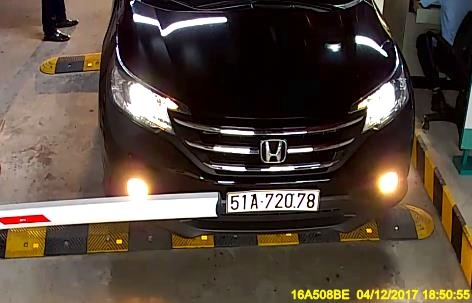plate: (225, 187, 317, 213)
